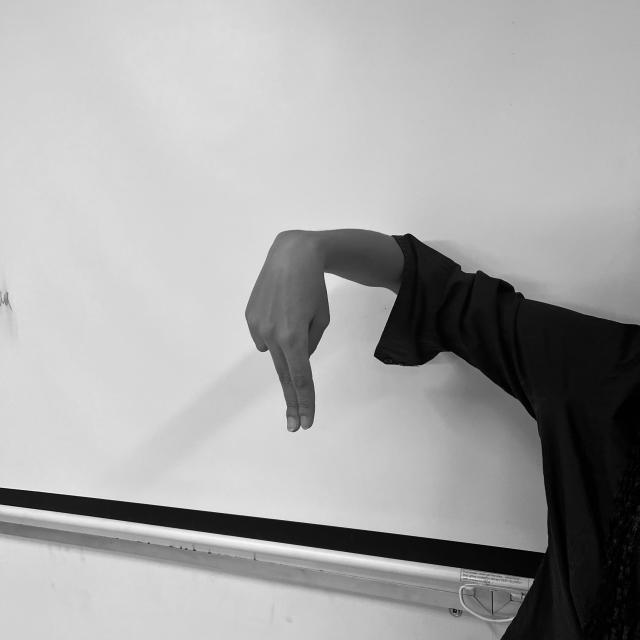Letra N: (242, 227, 339, 434)
